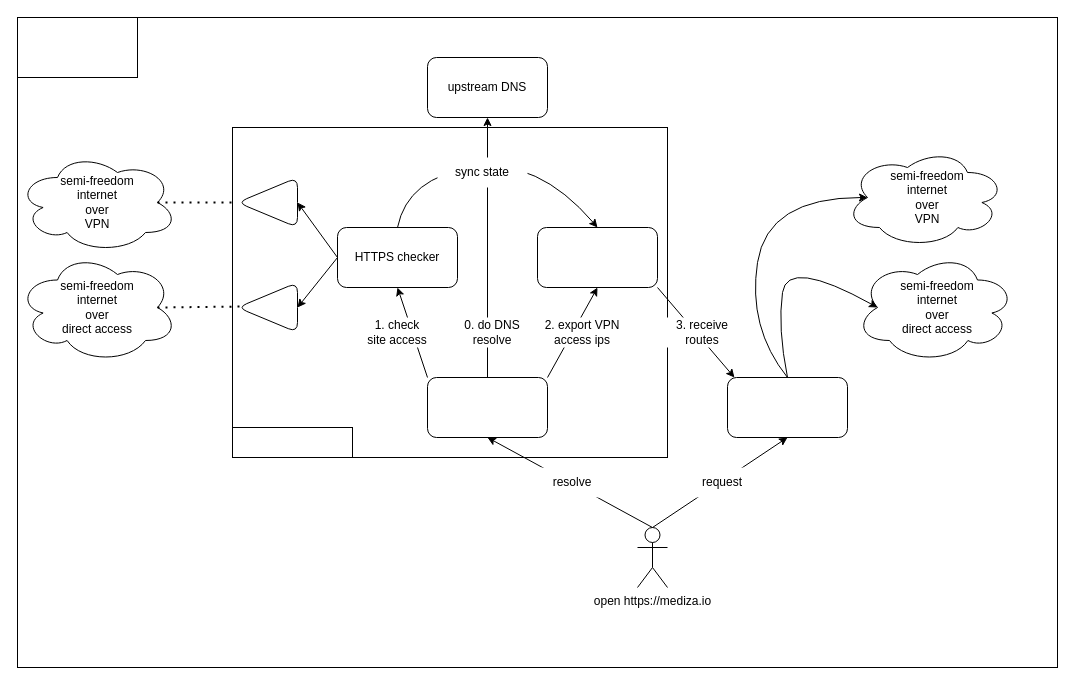
Some shapes in this 1075 by 685 pixel diagram are drawn without their labels. The centre of each missing label's shape, as x and y in pixels:
BGP: (x=597, y=257)
DeBlocker: (x=292, y=442)
DeBlocker 101: (x=77, y=47)
DNS: (x=487, y=407)
eth0: (x=267, y=307)
eu: (x=267, y=202)
Router: (x=787, y=407)
